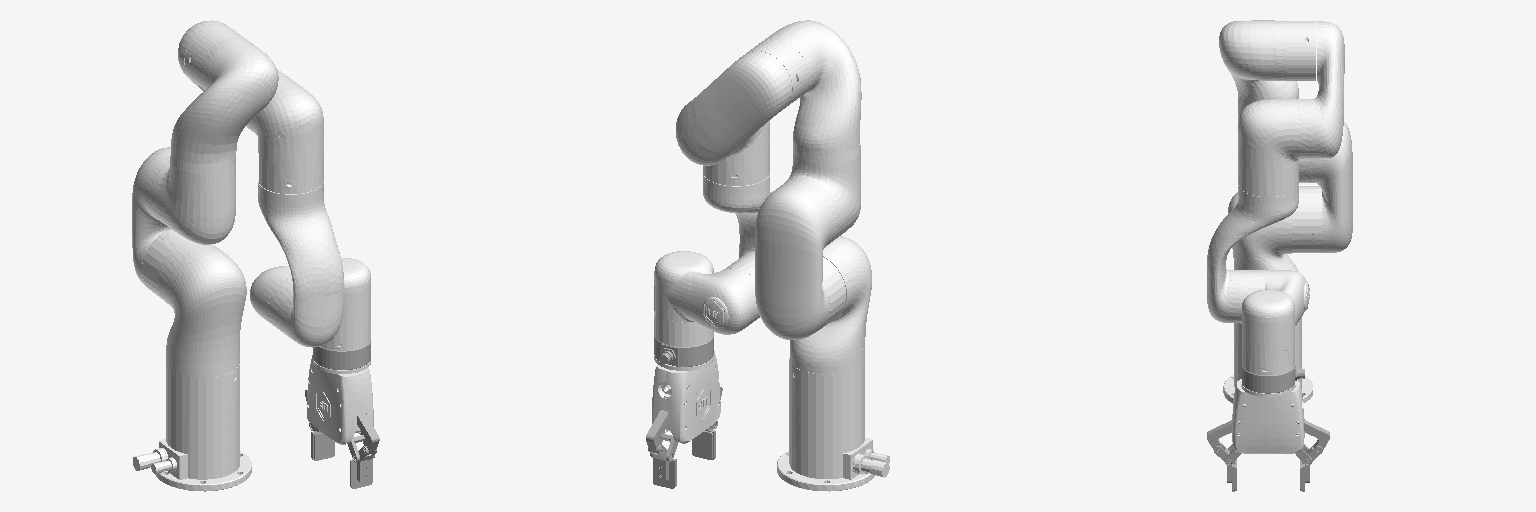
URDF robot description (xarm6_with_gripper):
<?xml version="1.0" encoding="utf-8"?>
<!-- =================================================================================== -->
<!-- |    This document was autogenerated by xacro from xarm6_with_gripper.xacro       | -->
<!-- |    EDITING THIS FILE BY HAND IS NOT RECOMMENDED                                 | -->
<!-- =================================================================================== -->
<robot name="xarm6_with_gripper">
  <!-- <xacro:load_gripper attach_to="$(arg prefix)link6" /> -->
  <!--
  Author: [author] <[email redacted]>
  Contributers:
-->
  <gazebo>
    <plugin filename="libgazebo_ros_control.so" name="gazebo_ros_control">
      <robotNamespace>/xarm</robotNamespace>
      <!-- <controlPeriod>0.0001</controlPeriod> -->
      <robotSimType>gazebo_ros_control/DefaultRobotHWSim</robotSimType>
      <legacyModeNS>true</legacyModeNS>
      <!-- <preserveWorldVelocity>true</preserveWorldVelocity> -->
    </plugin>
  </gazebo>
  <link name="world"/>
  <joint name="world_joint" type="fixed">
    <parent link="world"/>
    <child link="link_base"/>
    <origin rpy="0 0 0" xyz="0 0 0"/>
  </joint>
  <material name="Black">
    <color rgba="0.0 0.0 0.0 1.0"/>
  </material>
  <material name="Red">
    <color rgba="0.8 0.0 0.0 1.0"/>
  </material>
  <material name="White">
    <color rgba="1.0 1.0 1.0 1.0"/>
  </material>
  <material name="Silver">
    <color rgba="0.753 0.753 0.753 1.0"/>
  </material>
  <link name="link_base">
    <visual>
      <geometry>
        <mesh filename="xarm_description/meshes/xarm6/visual/base.obj"/>
      </geometry>
      <origin rpy="0 0 0" xyz="0 0 0"/>
      <material name="White"/>
    </visual>
    <collision>
      <geometry>
        <mesh filename="xarm_description/meshes/xarm6/collision/base_vhacd.obj"/>
      </geometry>
      <origin rpy="0 0 0" xyz="0 0 0"/>
    </collision>
    <inertial>
      <origin rpy="0 0 0" xyz="0.0 0.0 0.09103"/>
      <mass value="2.7"/>
      <inertia ixx="0.00494875" ixy="-3.5E-06" ixz="1.25E-05" iyy="0.00494174" iyz="1.67E-06" izz="0.002219"/>
    </inertial>
  </link>
  <link name="link1">
    <visual>
      <geometry>
        <mesh filename="xarm_description/meshes/xarm6/visual/link1.obj"/>
      </geometry>
      <origin rpy="0 0 0" xyz="0 0 0"/>
      <material name="White"/>
    </visual>
    <collision>
      <geometry>
        <mesh filename="xarm_description/meshes/xarm6/collision/link1_vhacd.obj"/>
      </geometry>
      <origin rpy="0 0 0" xyz="0 0 0"/>
    </collision>
    <inertial>
      <origin rpy="0 0 0" xyz="-0.002 0.02692 -0.01332"/>
      <mass value="2.16"/>
      <inertia ixx="0.00539427" ixy="1.095E-05" ixz="1.635E-06" iyy="0.0048979" iyz="0.000793" izz="0.00311573"/>
    </inertial>
  </link>
  <joint name="joint1" type="revolute">
    <parent link="link_base"/>
    <child link="link1"/>
    <origin rpy="0 0 0" xyz="0 0 0.267"/>
    <axis xyz="0 0 1"/>
    <limit effort="50.0" lower="-6.28318530718" upper="6.28318530718" velocity="3.14"/>
    <dynamics damping="1.0" friction="1.0"/>
  </joint>
  <link name="link2">
    <visual>
      <geometry>
        <mesh filename="xarm_description/meshes/xarm6/visual/link2.obj"/>
      </geometry>
      <origin rpy="0 0 0" xyz="0 0 0"/>
      <material name="White"/>
      	
    </visual>
    <collision>
      <geometry>
        <mesh filename="xarm_description/meshes/xarm6/collision/link2_vhacd2.obj"/>
      </geometry>
      <origin rpy="0 0 0" xyz="0 0 0"/>
    </collision>
    <inertial>
      <origin rpy="0 0 0" xyz="0.03531 -0.21398 0.03386"/>
      <mass value="1.71"/>
      <inertia ixx="0.0248674" ixy="-0.00430651" ixz="-0.00067797" iyy="0.00485548" iyz="0.00457245" izz="0.02387827"/>
    </inertial>
  </link>
  <joint name="joint2" type="revolute">
    <parent link="link1"/>
    <child link="link2"/>
    <origin rpy="-1.5708 0 0" xyz="0 0 0"/>
    <axis xyz="0 0 1"/>
    <limit effort="50.0" lower="-2.059" upper="2.0944" velocity="3.14"/>
    <dynamics damping="1.0" friction="1.0"/>
  </joint>
  <link name="link3">
    <visual>
      <geometry>
        <mesh filename="xarm_description/meshes/xarm6/visual/link3.obj"/>
      </geometry>
      <origin rpy="0 0 0" xyz="0 0 0"/>
      <material name="White"/>
    </visual>
    <collision>
      <geometry>
        <mesh filename="xarm_description/meshes/xarm6/collision/link3_vhacd.obj"/>
      </geometry>
      <origin rpy="0 0 0" xyz="0 0 0"/>
    </collision>
    <inertial>
      <origin rpy="0 0 0" xyz="0.06781 0.10749 0.01457"/>
      <mass value="1.384"/>
      <inertia ixx="0.0053694" ixy="0.0014185" ixz="-0.00092094" iyy="0.0032423" iyz="-0.00169178" izz="0.00501731"/>
    </inertial>
  </link>
  <joint name="joint3" type="revolute">
    <parent link="link2"/>
    <child link="link3"/>
    <origin rpy="0 0 0" xyz="0.0535 -0.2845 0"/>
    <axis xyz="0 0 1"/>
    <limit effort="32.0" lower="-3.927" upper="0.19198" velocity="3.14"/>
    <dynamics damping="1.0" friction="1.0"/>
  </joint>
  <link name="link4">
    <visual>
      <geometry>
        <mesh filename="xarm_description/meshes/xarm6/visual/link4.obj"/>
      </geometry>
      <origin rpy="0 0 0" xyz="0 0 0"/>
      <material name="White"/>
    </visual>
    <collision>
      <geometry>
        <mesh filename="xarm_description/meshes/xarm6/collision/link4_vhacd.obj"/>
      </geometry>
      <origin rpy="0 0 0" xyz="0 0 0"/>
    </collision>
    <inertial>
      <origin rpy="0 0 0" xyz="-0.00021 0.02578 -0.02538"/>
      <mass value="1.115"/>
      <inertia ixx="0.00439263" ixy="5.028E-05" ixz="1.374E-05" iyy="0.0040077" iyz="0.00045338" izz="0.00110321"/>
    </inertial>
  </link>
  <joint name="joint4" type="revolute">
    <parent link="link3"/>
    <child link="link4"/>
    <origin rpy="-1.5708 0 0" xyz="0.0775 0.3425 0"/>
    <axis xyz="0 0 1"/>
    <limit effort="32.0" lower="-6.28318530718" upper="6.28318530718" velocity="3.14"/>
    <dynamics damping="1.0" friction="1.0"/>
  </joint>
  <link name="link5">
    <visual>
      <geometry>
        <mesh filename="xarm_description/meshes/xarm6/visual/link5.obj"/>
      </geometry>
      <origin rpy="0 0 0" xyz="0 0 0"/>
      <material name="White"/>
    </visual>
    <collision>
      <geometry>
        <mesh filename="xarm_description/meshes/xarm6/collision/link5_vhacd.obj"/>
      </geometry>
      <origin rpy="0 0 0" xyz="0 0 0"/>
    </collision>
    <inertial>
      <origin rpy="0 0 0" xyz="0.05428 0.01781 0.00543"/>
      <mass value="1.275"/>
      <inertia ixx="0.001202758" ixy="0.000492428" ixz="-0.00039147" iyy="0.0022876" iyz="-1.235E-04" izz="0.0026866"/>
    </inertial>
  </link>
  <joint name="joint5" type="revolute">
    <parent link="link4"/>
    <child link="link5"/>
    <origin rpy="1.5708 0 0" xyz="0 0 0"/>
    <axis xyz="0 0 1"/>
    <limit effort="32.0" lower="-1.69297" upper="3.14159265359" velocity="3.14"/>
    <dynamics damping="1.0" friction="1.0"/>
  </joint>
  <link name="link6">
    <visual>
      <geometry>
        <mesh filename="xarm_description/meshes/xarm6/visual/link6.obj"/>
      </geometry>
      <origin rpy="0 0 0" xyz="0 0 0"/>
      <material name="Silver"/>
    </visual>
    <collision>
      <geometry>
        <mesh filename="xarm_description/meshes/xarm6/visual/link6.obj"/>
      </geometry>
      <origin rpy="0 0 0" xyz="0 0 0"/>
    </collision>
    <inertial>
      <origin rpy="0 0 0" xyz="0 0.00064 -0.00952"/>
      <mass value="0.1096"/>
      <inertia ixx="4.5293E-05" ixy="0" ixz="0" iyy="4.8111E-05" iyz="0" izz="7.9715E-05"/>
    </inertial>
  </link>
  <joint name="joint6" type="revolute">
    <parent link="link5"/>
    <child link="link6"/>
    <origin rpy="-1.5708 0 0" xyz="0.076 0.097 0"/>
    <axis xyz="0 0 1"/>
    <limit effort="20.0" lower="-6.28318530718" upper="6.28318530718" velocity="3.14"/>
    <dynamics damping="1.0" friction="1.0"/>
  </joint>
  <transmission name="tran1">
    <type>transmission_interface/SimpleTransmission</type>
    <joint name="joint1">
      <hardwareInterface>hardware_interface/PositionJointInterface</hardwareInterface>
    </joint>
    <actuator name="motor1">
      <hardwareInterface>hardware_interface/PositionJointInterface</hardwareInterface>
      <mechanicalReduction>100</mechanicalReduction>
    </actuator>
  </transmission>
  <transmission name="tran2">
    <type>transmission_interface/SimpleTransmission</type>
    <joint name="joint2">
      <hardwareInterface>hardware_interface/PositionJointInterface</hardwareInterface>
    </joint>
    <actuator name="motor2">
      <hardwareInterface>hardware_interface/PositionJointInterface</hardwareInterface>
      <mechanicalReduction>reduction</mechanicalReduction>
    </actuator>
  </transmission>
  <transmission name="tran3">
    <type>transmission_interface/SimpleTransmission</type>
    <joint name="joint3">
      <hardwareInterface>hardware_interface/PositionJointInterface</hardwareInterface>
    </joint>
    <actuator name="motor3">
      <hardwareInterface>hardware_interface/PositionJointInterface</hardwareInterface>
      <mechanicalReduction>reduction</mechanicalReduction>
    </actuator>
  </transmission>
  <transmission name="tran4">
    <type>transmission_interface/SimpleTransmission</type>
    <joint name="joint4">
      <hardwareInterface>hardware_interface/PositionJointInterface</hardwareInterface>
    </joint>
    <actuator name="motor3">
      <hardwareInterface>hardware_interface/PositionJointInterface</hardwareInterface>
      <mechanicalReduction>reduction</mechanicalReduction>
    </actuator>
  </transmission>
  <transmission name="tran5">
    <type>transmission_interface/SimpleTransmission</type>
    <joint name="joint5">
      <hardwareInterface>hardware_interface/PositionJointInterface</hardwareInterface>
    </joint>
    <actuator name="motor5">
      <hardwareInterface>hardware_interface/PositionJointInterface</hardwareInterface>
      <mechanicalReduction>reduction</mechanicalReduction>
    </actuator>
  </transmission>
  <transmission name="tran6">
    <type>transmission_interface/SimpleTransmission</type>
    <joint name="joint6">
      <hardwareInterface>hardware_interface/PositionJointInterface</hardwareInterface>
    </joint>
    <actuator name="motor6">
      <hardwareInterface>hardware_interface/PositionJointInterface</hardwareInterface>
      <mechanicalReduction>reduction</mechanicalReduction>
    </actuator>
  </transmission>
  <gazebo reference="link_base">
    <selfCollide>true</selfCollide>
  </gazebo>
  <gazebo reference="link1">
    <selfCollide>true</selfCollide>
  </gazebo>
  <gazebo reference="link2">
    <selfCollide>true</selfCollide>
  </gazebo>
  <gazebo reference="link3">
    <selfCollide>true</selfCollide>
  </gazebo>
  <gazebo reference="link4">
    <selfCollide>true</selfCollide>
  </gazebo>
  <gazebo reference="link5">
    <selfCollide>true</selfCollide>
  </gazebo>
  <gazebo reference="link6">
    <selfCollide>true</selfCollide>
  </gazebo>
  <!-- gazebo plugin -->
  <!-- <xacro:gazebo_ros_control_plugin namespace="${ns}"/> -->
  <joint name="gripper_fix" type="fixed">
    <parent link="link6"/>
    <child link="xarm_gripper_base_link"/>
    <origin rpy="0 0 0" xyz="0 0 0"/>
  </joint>
  <link name="xarm_gripper_base_link">
    <inertial>
      <origin rpy="0 0 0" xyz="-0.00065489 -0.0018497 0.048028"/>
      <mass value="0.54156"/>
      <inertia ixx="0.00047106" ixy="3.9292E-07" ixz="2.6537E-06" iyy="0.00033072" iyz="-1.0975E-05" izz="0.00025642"/>
    </inertial>
    <visual>
      <origin rpy="0 0 0" xyz="0 0 0"/>
      <geometry>
        <mesh filename="xarm_gripper/meshes/base_link.obj"/>
      </geometry>
      <!-- <material
        name="">
        <color
          rgba="0.89804 0.91765 0.92941 1" />
      </material> -->
      <material name="White">
        <color rgba="1.0 1.0 1.0 1.0"/>
      </material>
    </visual>
    <collision>
      <origin rpy="0 0 0" xyz="0 0 0"/>
      <geometry>
        <mesh filename="xarm_gripper/meshes/base_link.obj"/>
      </geometry>
    </collision>
  </link>
  <link name="left_outer_knuckle">
    <inertial>
      <origin rpy="0 0 0" xyz="2.9948E-14 0.021559 0.015181"/>
      <mass value="0.033618"/>
      <inertia ixx="1.9111E-05" ixy="-1.8803E-17" ixz="-1.1002E-17" iyy="6.6256E-06" iyz="-7.3008E-06" izz="1.3185E-05"/>
    </inertial>
    <visual>
      <origin rpy="0 0 0" xyz="0 0 0"/>
      <geometry>
        <mesh filename="xarm_gripper/meshes/left_outer_knuckle.obj"/>
      </geometry>
      <material name="Silver">
        <color rgba="0.753 0.753 0.753 1.0"/>
      </material>
    </visual>
    <collision>
      <origin rpy="0 0 0" xyz="0 0 0"/>
      <geometry>
        <mesh filename="xarm_gripper/meshes/left_outer_knuckle.obj"/>
      </geometry>
    </collision>
  </link>
  <joint name="drive_joint" type="revolute">
    <origin rpy="0 0 0" xyz="0 0.035 0.059098"/>
    <parent link="xarm_gripper_base_link"/>
    <child link="left_outer_knuckle"/>
    <axis xyz="1 0 0"/>
    <limit effort="50" lower="0" upper="0.85" velocity="2"/>
  </joint>
  <link name="left_finger">
    <inertial>
      <origin rpy="0 0 0" xyz="-2.4536E-14 -0.016413 0.029258"/>
      <mass value="0.048304"/>
      <inertia ixx="1.7493E-05" ixy="-4.2156E-19" ixz="6.9164E-18" iyy="1.7225E-05" iyz="4.6433E-06" izz="5.1466E-06"/>
    </inertial>
    <visual>
      <origin rpy="0 0 0" xyz="0 0 0"/>
      <geometry>
        <mesh filename="xarm_gripper/meshes/left_finger.obj"/>
      </geometry>
      <material name="Silver">
        <color rgba="0.753 0.753 0.753 1.0"/>
      </material>
    </visual>
    <collision>
      <origin rpy="0 0 0" xyz="0 0 0"/>
      <geometry>
        <mesh filename="xarm_gripper/meshes/left_finger.obj"/>
      </geometry>
    </collision>
  </link>
  <joint name="left_finger_joint" type="revolute">
    <origin rpy="0 0 0" xyz="0 0.035465 0.042039"/>
    <parent link="left_outer_knuckle"/>
    <child link="left_finger"/>
    <axis xyz="-1 0 0"/>
    <limit effort="50" lower="0" upper="0.85" velocity="2"/>
    <mimic joint="drive_joint" multiplier="1" offset="0"/>
  </joint>
  <link name="left_inner_knuckle">
    <inertial>
      <origin rpy="0 0 0" xyz="1.86600784687907E-06 0.0220467847633621 0.0261334672830885"/>
      <mass value="0.0230125781256706"/>
      <inertia ixx="6.09490024271906E-06" ixy="6.06651326160071E-11" ixz="7.19102670500635E-11" iyy="6.01955084375188E-06" iyz="-2.75316812991721E-06" izz="5.07862004479903E-06"/>
    </inertial>
    <visual>
      <origin rpy="0 0 0" xyz="0 0 0"/>
      <geometry>
        <mesh filename="xarm_gripper/meshes/left_inner_knuckle.obj"/>
      </geometry>
      <material name="Silver">
        <color rgba="0.753 0.753 0.753 1.0"/>
      </material>
    </visual>
    <collision>
      <origin rpy="0 0 0" xyz="0 0 0"/>
      <geometry>
        <mesh filename="xarm_gripper/meshes/left_inner_knuckle.obj"/>
      </geometry>
    </collision>
  </link>
  <joint name="left_inner_knuckle_joint" type="revolute">
    <origin rpy="0 0 0" xyz="0 0.02 0.074098"/>
    <parent link="xarm_gripper_base_link"/>
    <child link="left_inner_knuckle"/>
    <axis xyz="1 0 0"/>
    <limit effort="50" lower="0" upper="0.85" velocity="2"/>
    <mimic joint="drive_joint" multiplier="1" offset="0"/>
  </joint>
  <link name="right_outer_knuckle">
    <inertial>
      <origin rpy="0 0 0" xyz="-3.1669E-14 -0.021559 0.015181"/>
      <mass value="0.033618"/>
      <inertia ixx="1.9111E-05" ixy="-1.8789E-17" ixz="1.0986E-17" iyy="6.6256E-06" iyz="7.3008E-06" izz="1.3185E-05"/>
    </inertial>
    <visual>
      <origin rpy="0 0 0" xyz="0 0 0"/>
      <geometry>
        <mesh filename="xarm_gripper/meshes/right_outer_knuckle.obj"/>
      </geometry>
      <material name="Silver">
        <color rgba="0.753 0.753 0.753 1.0"/>
      </material>
    </visual>
    <collision>
      <origin rpy="0 0 0" xyz="0 0 0"/>
      <geometry>
        <mesh filename="xarm_gripper/meshes/right_outer_knuckle.obj"/>
      </geometry>
    </collision>
  </link>
  <joint name="right_outer_knuckle_joint" type="revolute">
    <origin rpy="0 0 0" xyz="0 -0.035 0.059098"/>
    <parent link="xarm_gripper_base_link"/>
    <child link="right_outer_knuckle"/>
    <axis xyz="-1 0 0"/>
    <limit effort="50" lower="0" upper="0.85" velocity="2"/>
    <mimic joint="drive_joint" multiplier="1" offset="0"/>
  </joint>
  <link name="right_finger">
    <inertial>
      <origin rpy="0 0 0" xyz="2.5618E-14 0.016413 0.029258"/>
      <mass value="0.048304"/>
      <inertia ixx="1.7493E-05" ixy="-5.0014E-19" ixz="-7.5079E-18" iyy="1.7225E-05" iyz="-4.6435E-06" izz="5.1466E-06"/>
    </inertial>
    <visual>
      <origin rpy="0 0 0" xyz="0 0 0"/>
      <geometry>
        <mesh filename="xarm_gripper/meshes/right_finger.obj"/>
      </geometry>
      <material name="Silver">
        <color rgba="0.753 0.753 0.753 1.0"/>
      </material>
    </visual>
    <collision>
      <origin rpy="0 0 0" xyz="0 0 0"/>
      <geometry>
        <mesh filename="xarm_gripper/meshes/right_finger.obj"/>
      </geometry>
    </collision>
  </link>
  <joint name="right_finger_joint" type="revolute">
    <origin rpy="0 0 0" xyz="0 -0.035465 0.042039"/>
    <parent link="right_outer_knuckle"/>
    <child link="right_finger"/>
    <axis xyz="1 0 0"/>
    <limit effort="50" lower="0" upper="0.85" velocity="2"/>
    <mimic joint="drive_joint" multiplier="1" offset="0"/>
  </joint>
  <link name="right_inner_knuckle">
    <inertial>
      <origin rpy="0 0 0" xyz="1.866E-06 -0.022047 0.026133"/>
      <mass value="0.023013"/>
      <inertia ixx="6.0949E-06" ixy="-6.0665E-11" ixz="7.191E-11" iyy="6.0197E-06" iyz="2.7531E-06" izz="5.0784E-06"/>
    </inertial>
    <visual>
      <origin rpy="0 0 0" xyz="0 0 0"/>
      <geometry>
        <mesh filename="xarm_gripper/meshes/right_inner_knuckle.obj"/>
      </geometry>
      <material name="Silver">
        <color rgba="0.753 0.753 0.753 1.0"/>
      </material>
    </visual>
    <collision>
      <origin rpy="0 0 0" xyz="0 0 0"/>
      <geometry>
        <mesh filename="xarm_gripper/meshes/right_inner_knuckle.obj"/>
      </geometry>
    </collision>
  </link>
  <joint name="right_inner_knuckle_joint" type="revolute">
    <origin rpy="0 0 0" xyz="0 -0.02 0.074098"/>
    <parent link="xarm_gripper_base_link"/>
    <child link="right_inner_knuckle"/>
    <axis xyz="-1 0 0"/>
    <limit effort="50" lower="0" upper="0.85" velocity="2"/>
    <mimic joint="drive_joint" multiplier="1" offset="0"/>
  </joint>
  <transmission name="drive_joint_trans">
    <type>transmission_interface/SimpleTransmission</type>
    <joint name="drive_joint">
      <hardwareInterface>hardware_interface/PositionJointInterface</hardwareInterface>
    </joint>
    <actuator name="drive_joint_motor">
      <hardwareInterface>hardware_interface/PositionJointInterface</hardwareInterface>
      <mechanicalReduction>1</mechanicalReduction>
    </actuator>
  </transmission>
  <gazebo reference="xarm_gripper_base_link">
    <selfCollide>true</selfCollide>
  </gazebo>
  <gazebo reference="left_outer_knuckle">
    <selfCollide>true</selfCollide>
  </gazebo>
  <gazebo reference="left_finger">
    <selfCollide>true</selfCollide>
  </gazebo>
  <gazebo reference="left_inner_knuckle">
    <selfCollide>true</selfCollide>
  </gazebo>
  <gazebo reference="right_outer_knuckle">
    <selfCollide>true</selfCollide>
  </gazebo>
  <gazebo reference="right_finger">
    <selfCollide>true</selfCollide>
  </gazebo>
  <gazebo reference="right_inner_knuckle">
    <selfCollide>true</selfCollide>
  </gazebo>
</robot>

--- Render facts (derived) ---
The picture shows the robot from 3 angles, left to right: view 1: azimuth 30°, elevation 25°; view 2: azimuth 150°, elevation 25°; view 3: azimuth 270°, elevation 25°; orthographic projection.
Robot: xarm6_with_gripper — 15 links, 14 joints (12 revolute, 2 fixed); root link world; default pose: every joint at zero.
Visible links, largest first — view 1: link2, link1, link_base, link4, link3, xarm_gripper_base_link, link5, link6, left_finger, right_finger; view 2: link2, link3, link_base, link5, link1, xarm_gripper_base_link, link4, link6, right_finger, left_finger, right_outer_knuckle; view 3: link2, link3, link5, link4, xarm_gripper_base_link, link1, link_base, link6.
Link boxes in pixels (x1,y1,x2,y2): link2: (132, 25, 278, 289); link1: (142, 229, 246, 377); link_base: (133, 364, 251, 491); link4: (258, 179, 343, 347); link3: (178, 20, 323, 193); xarm_gripper_base_link: (307, 355, 373, 444); link5: (250, 258, 370, 350); link6: (313, 341, 370, 369); left_finger: (350, 446, 376, 488); right_finger: (311, 429, 334, 460); link2: (747, 20, 861, 339); link3: (676, 51, 791, 185); link_base: (777, 357, 889, 491); link5: (654, 251, 759, 346); link1: (790, 236, 871, 374); xarm_gripper_base_link: (652, 351, 720, 443); link4: (703, 174, 770, 317); link6: (654, 336, 713, 366); right_finger: (648, 445, 676, 488); left_finger: (692, 427, 715, 459); right_outer_knuckle: (646, 410, 668, 453); link2: (1219, 20, 1352, 252); link3: (1238, 21, 1344, 196); link5: (1242, 270, 1309, 374); link4: (1207, 185, 1298, 323); xarm_gripper_base_link: (1232, 379, 1304, 453); link1: (1228, 186, 1321, 271); link_base: (1223, 317, 1312, 403); link6: (1242, 366, 1304, 393).
Size in the robot's own frame: 0.3368 by 0.2055 by 0.6445 metres.
Meshes: 14 distinct files referenced, 14 mesh visuals loaded (14 OBJ).
